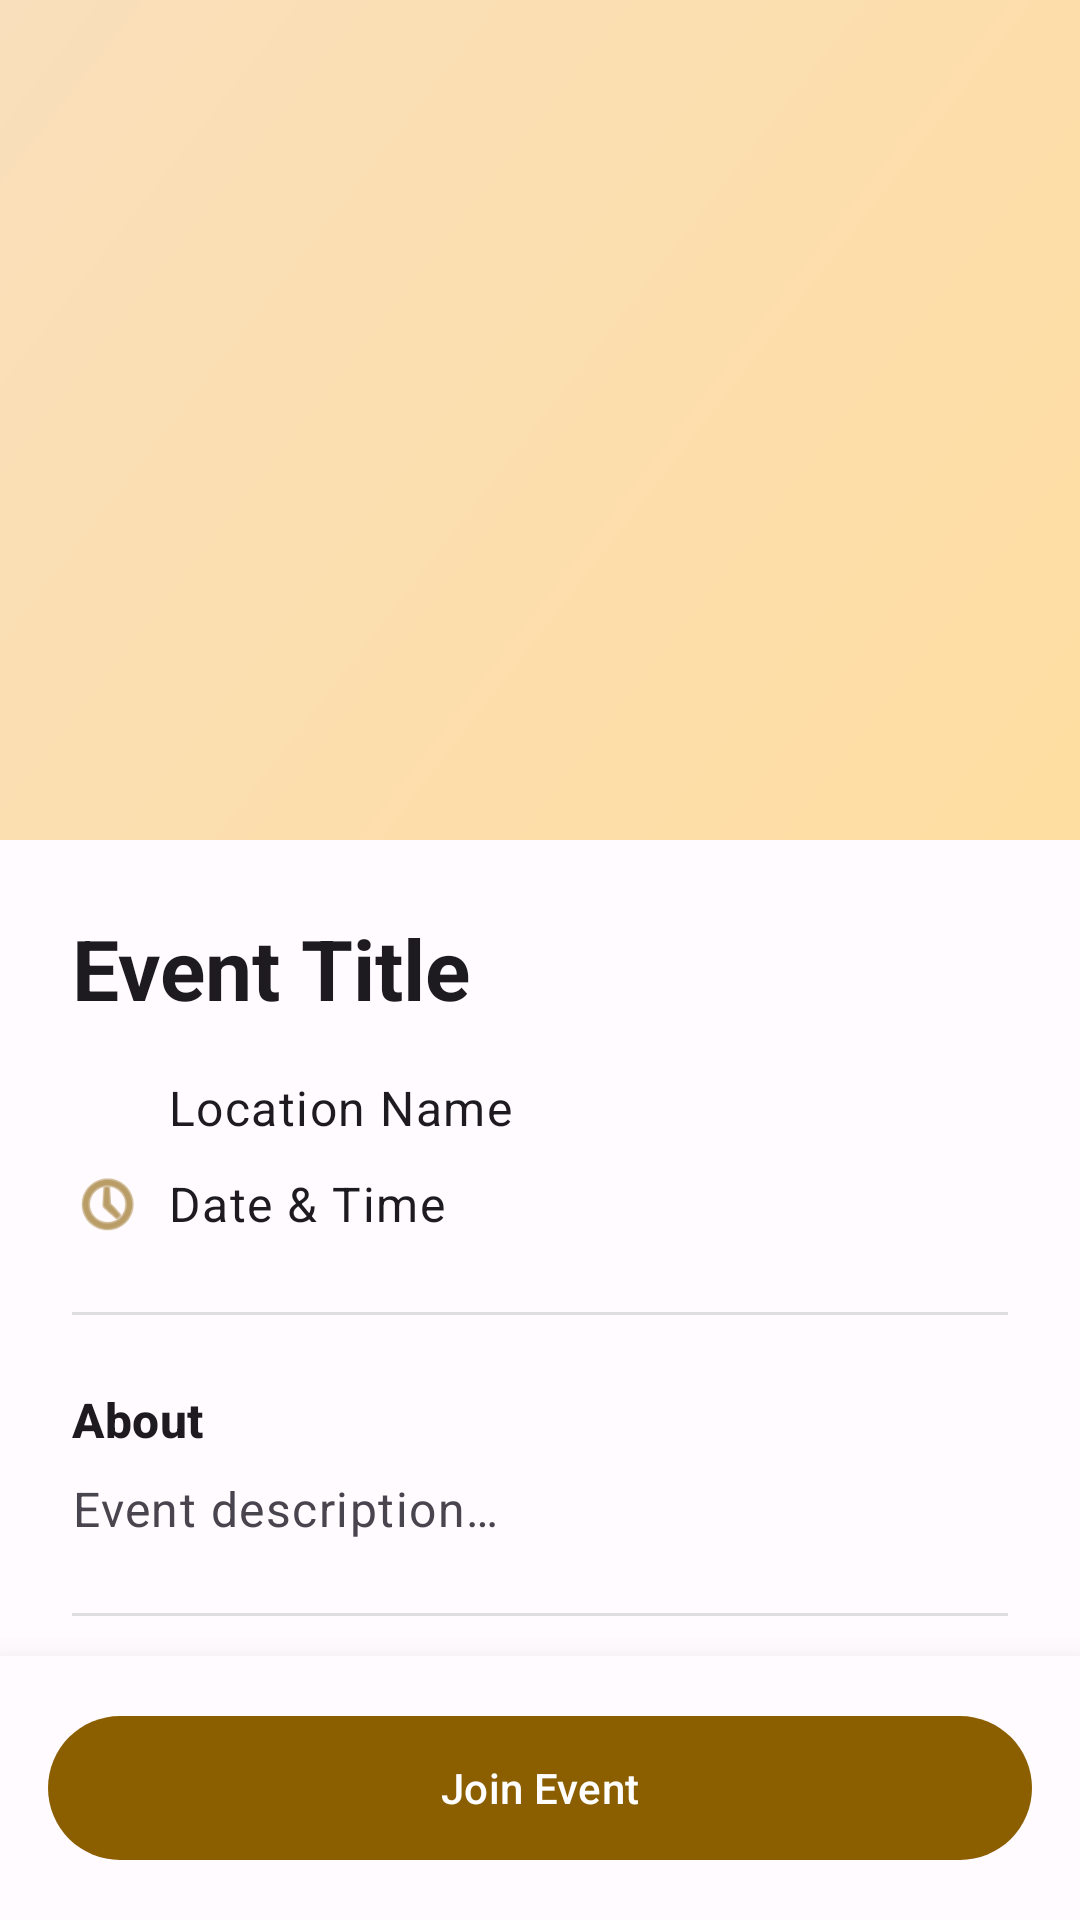

Icon bounding boxes for this 1080 × 1920 phone screenshot, format (x1, y1, x2, y2):
recent history: (81, 1178, 134, 1230)
